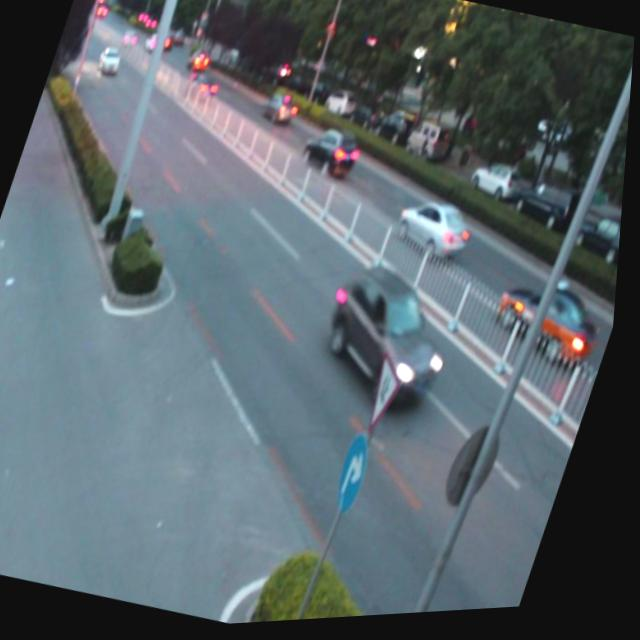car: (315, 262, 467, 417), (487, 277, 610, 383), (393, 196, 478, 271), (298, 129, 364, 186), (257, 93, 304, 135), (179, 73, 223, 116)
